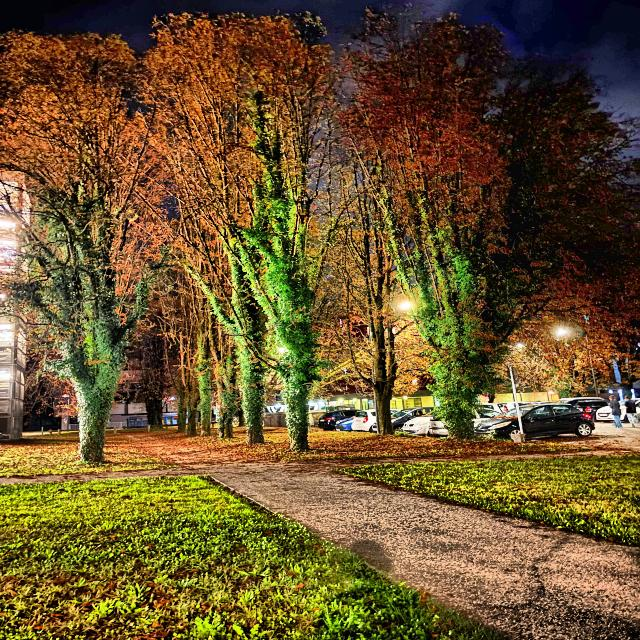arvore: (5, 31, 193, 475), (354, 13, 518, 438), (192, 22, 336, 444)
